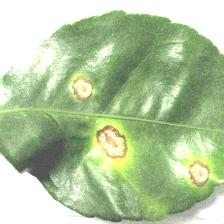canker: (60, 70, 214, 190)
